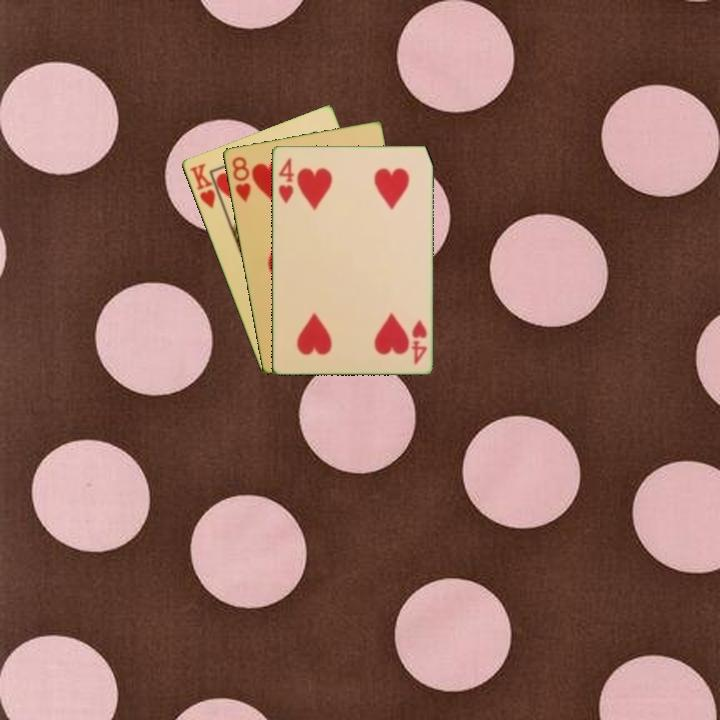4h: (274, 154, 297, 206), (407, 316, 429, 368)
8h: (228, 153, 253, 205)
Kh: (186, 160, 225, 211)
